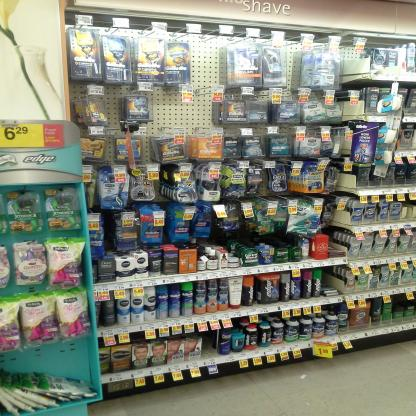empty_space: (202, 331, 218, 358), (321, 265, 338, 288)
